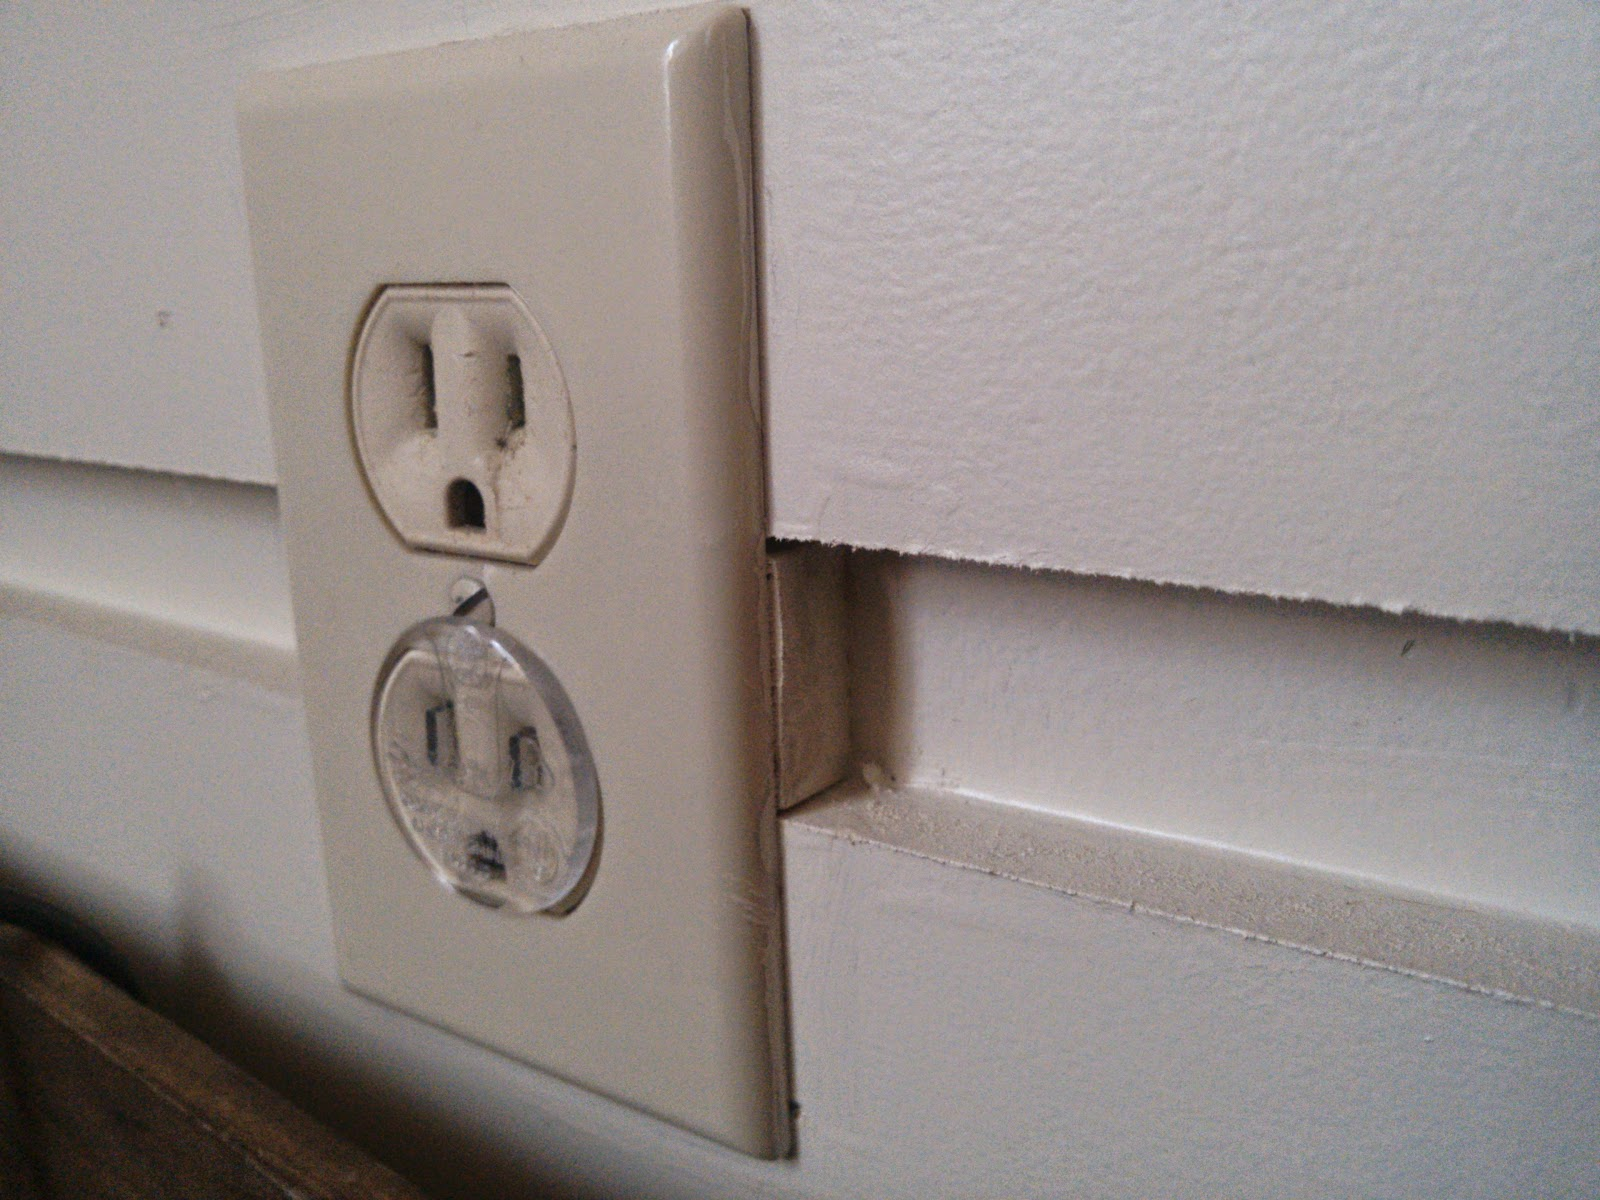outlet: (391, 325, 538, 545)
